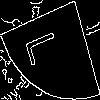L: (25, 25, 66, 68)
